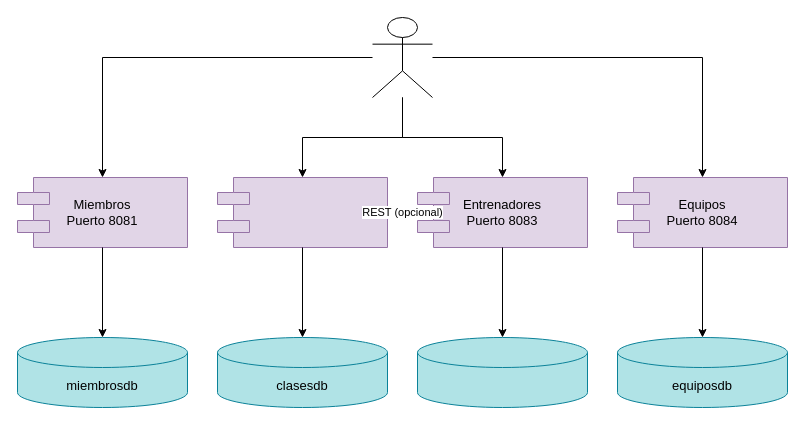
This 805x425 diagram has some shape labels left out. The centre of each missing label's shape, as x and y in pixels:
Clases Puerto 8082: point 302,212
Cliente (Postman): point 402,57
entrenadoresdb: point 502,372
